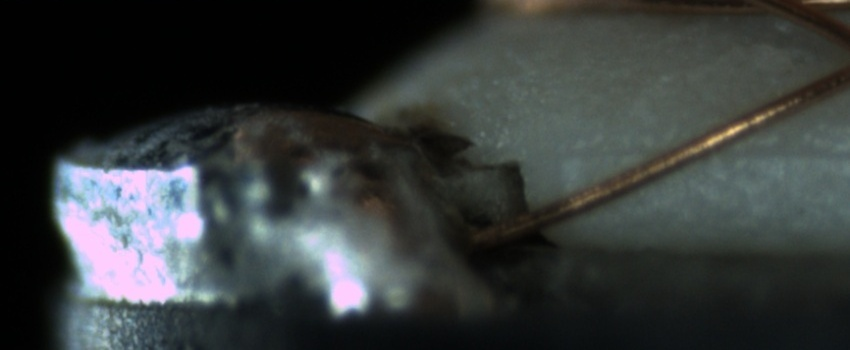CL: (831, 24, 850, 87)
DL: (554, 120, 849, 182)
